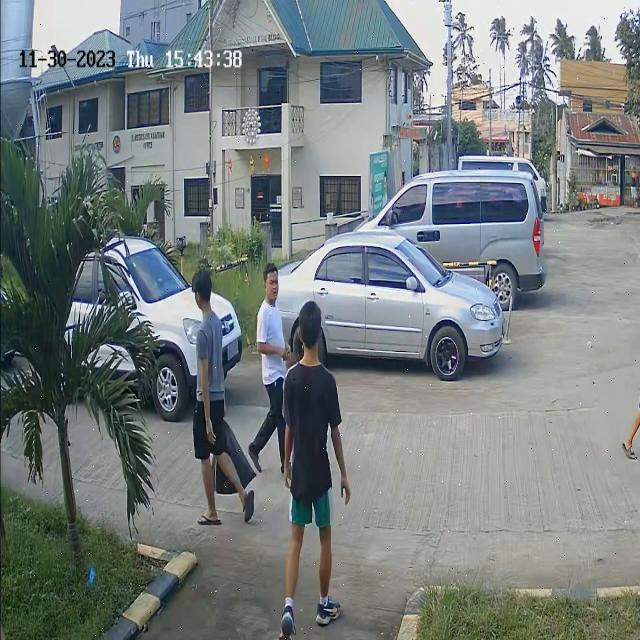human: (278, 296, 348, 640), (183, 269, 246, 527), (248, 265, 293, 474)
trash: (209, 404, 257, 493)
